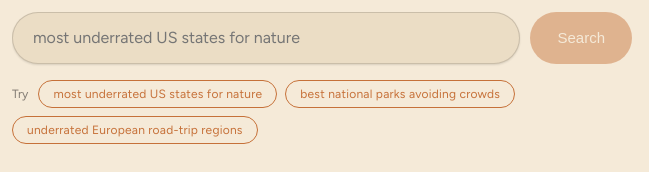
Test: SearchForm › fills the query from an example
This screenshot has width=649, height=172.
What coordinates should you click on to do the following:
click the button "most underrated US states for nature"
I would click on:
 (158, 94)
Its box is x1=38 y1=80 x2=277 y2=108.
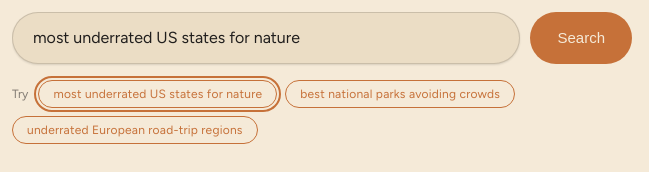
Expected: the field named "what are you trying to find" holds "most underrated US states for nature", x1=12 y1=12 x2=520 y2=64
